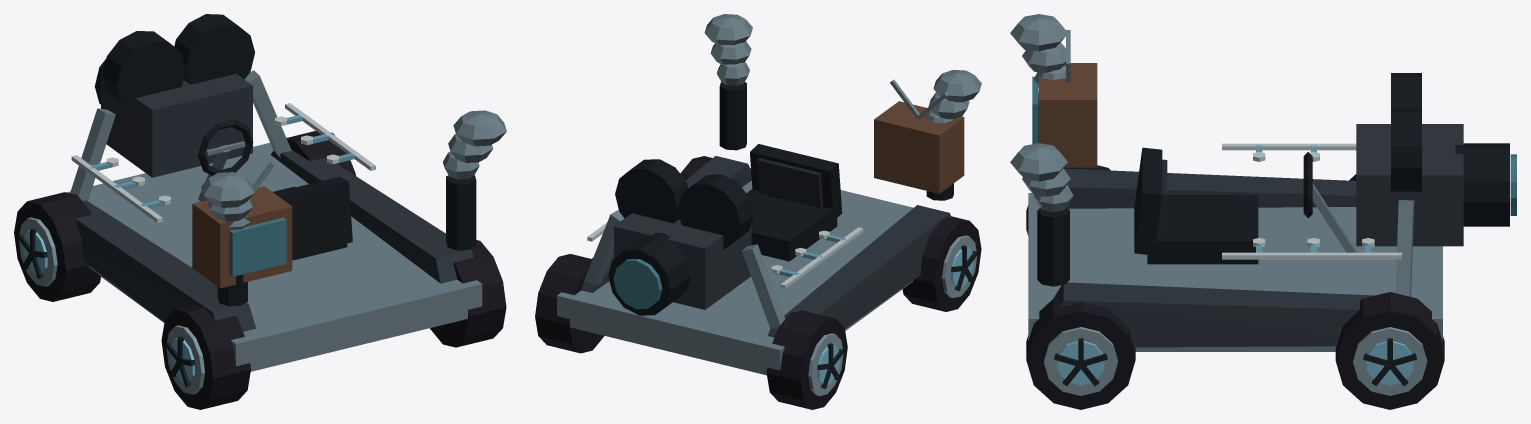
Rendered from kart.glb.
3 renders of one model, left to right at view 1: azimuth 30°, elevation 25°; view 2: azimuth 150°, elevation 25°; view 3: azimuth 270°, elevation 25°, orthographic. The views are drawn at different scales.
Parts seen in each view (by area): view 1: identity-camera-rig-camera-dolly-and-lens, identity-camera-rig-motif-smoke, identity-camera-rig-motif-television, wheel-rear-left, wheel-front-left, identity-camera-rig-driver-cockpit, wheel-rear-right, identity-camera-rig-motif-circuit, wheel-front-right; view 2: identity-camera-rig-camera-dolly-and-lens, identity-camera-rig-driver-cockpit, identity-camera-rig-motif-television, identity-camera-rig-motif-smoke, wheel-front-left, wheel-rear-left, wheel-front-right, identity-camera-rig-motif-circuit; view 3: identity-camera-rig-camera-dolly-and-lens, identity-camera-rig-driver-cockpit, wheel-front-right, wheel-rear-right, identity-camera-rig-motif-smoke, identity-camera-rig-motif-television, identity-camera-rig-motif-circuit.
Part boxes in pixels (x1,y1,x2,y2): identity-camera-rig-camera-dolly-and-lens: (66, 14, 482, 371); identity-camera-rig-motif-smoke: (201, 110, 506, 306); identity-camera-rig-motif-television: (192, 162, 292, 288); wheel-rear-left: (161, 305, 250, 409); wheel-front-left: (14, 192, 100, 301); identity-camera-rig-driver-cockpit: (198, 119, 352, 260); wheel-rear-right: (430, 240, 506, 347); identity-camera-rig-motif-circuit: (71, 103, 375, 222); wheel-front-right: (286, 131, 355, 175); identity-camera-rig-camera-dolly-and-lens: (557, 156, 951, 375); identity-camera-rig-driver-cockpit: (746, 144, 842, 261); identity-camera-rig-motif-television: (874, 79, 964, 193); identity-camera-rig-motif-smoke: (704, 14, 981, 200); wheel-front-left: (766, 310, 847, 409); wheel-rear-left: (902, 216, 981, 311); wheel-front-right: (535, 254, 604, 353); identity-camera-rig-motif-circuit: (587, 223, 863, 288); identity-camera-rig-camera-dolly-and-lens: (1028, 73, 1516, 351); identity-camera-rig-driver-cockpit: (1134, 147, 1357, 264); wheel-front-right: (1335, 292, 1444, 409); wheel-rear-right: (1026, 297, 1135, 409); identity-camera-rig-motif-smoke: (1010, 14, 1073, 286); identity-camera-rig-motif-television: (1032, 30, 1097, 167); identity-camera-rig-motif-circuit: (1222, 143, 1401, 259).
Bounding box in the file's own units: 2.07 × 1.53 × 2.79.
